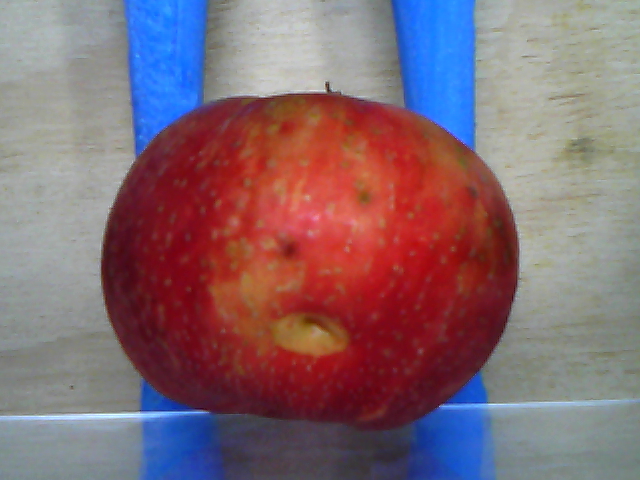puncture: (271, 313, 347, 356)
